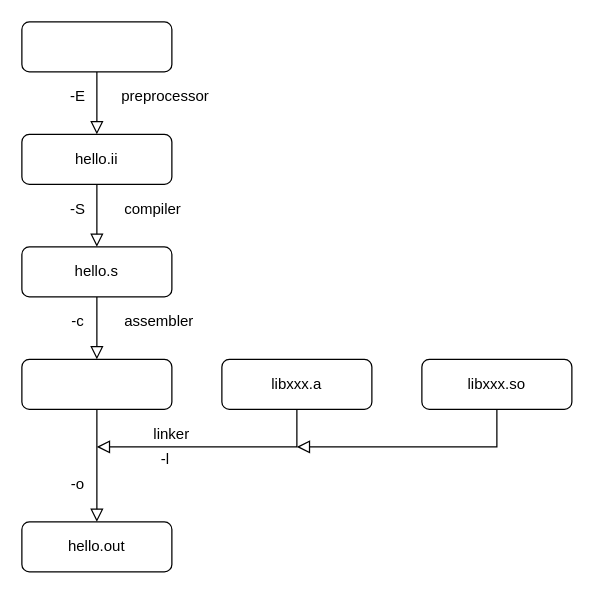
Some shapes in this 594 by 594 pixel diagram are drawn without their labels. The shapes that lost their labels are listed below. From the top down, each one's box as (x1, y1, x2, y2) in pixels, then its label:
(21, 21, 172, 72): hello.cc
(21, 358, 172, 409): hello.o
